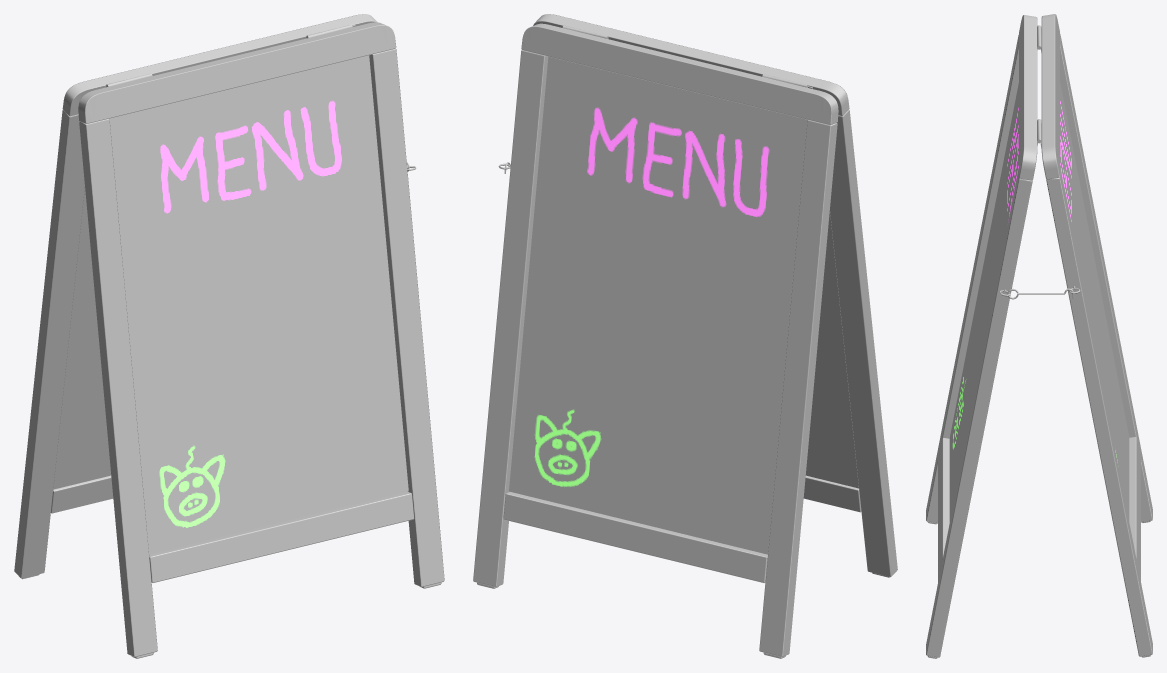
The model's file is standing-mirror.gltf.
The picture shows the model from 3 angles, left to right: view 1: azimuth 30°, elevation 25°; view 2: azimuth 150°, elevation 25°; view 3: azimuth 270°, elevation 25°; orthographic projection. The views are drawn at different scales.
Visible parts, largest first — view 1: subset_0.107; view 2: subset_0.107; view 3: subset_0.107.
Boxes of the visible parts, x1=… form: subset_0.107: x1=14, y1=14, x2=444, y2=658; subset_0.107: x1=473, y1=14, x2=897, y2=658; subset_0.107: x1=926, y1=14, x2=1152, y2=658.
Bounding box in the file's own units: 0.6456 × 1 × 0.4072.
